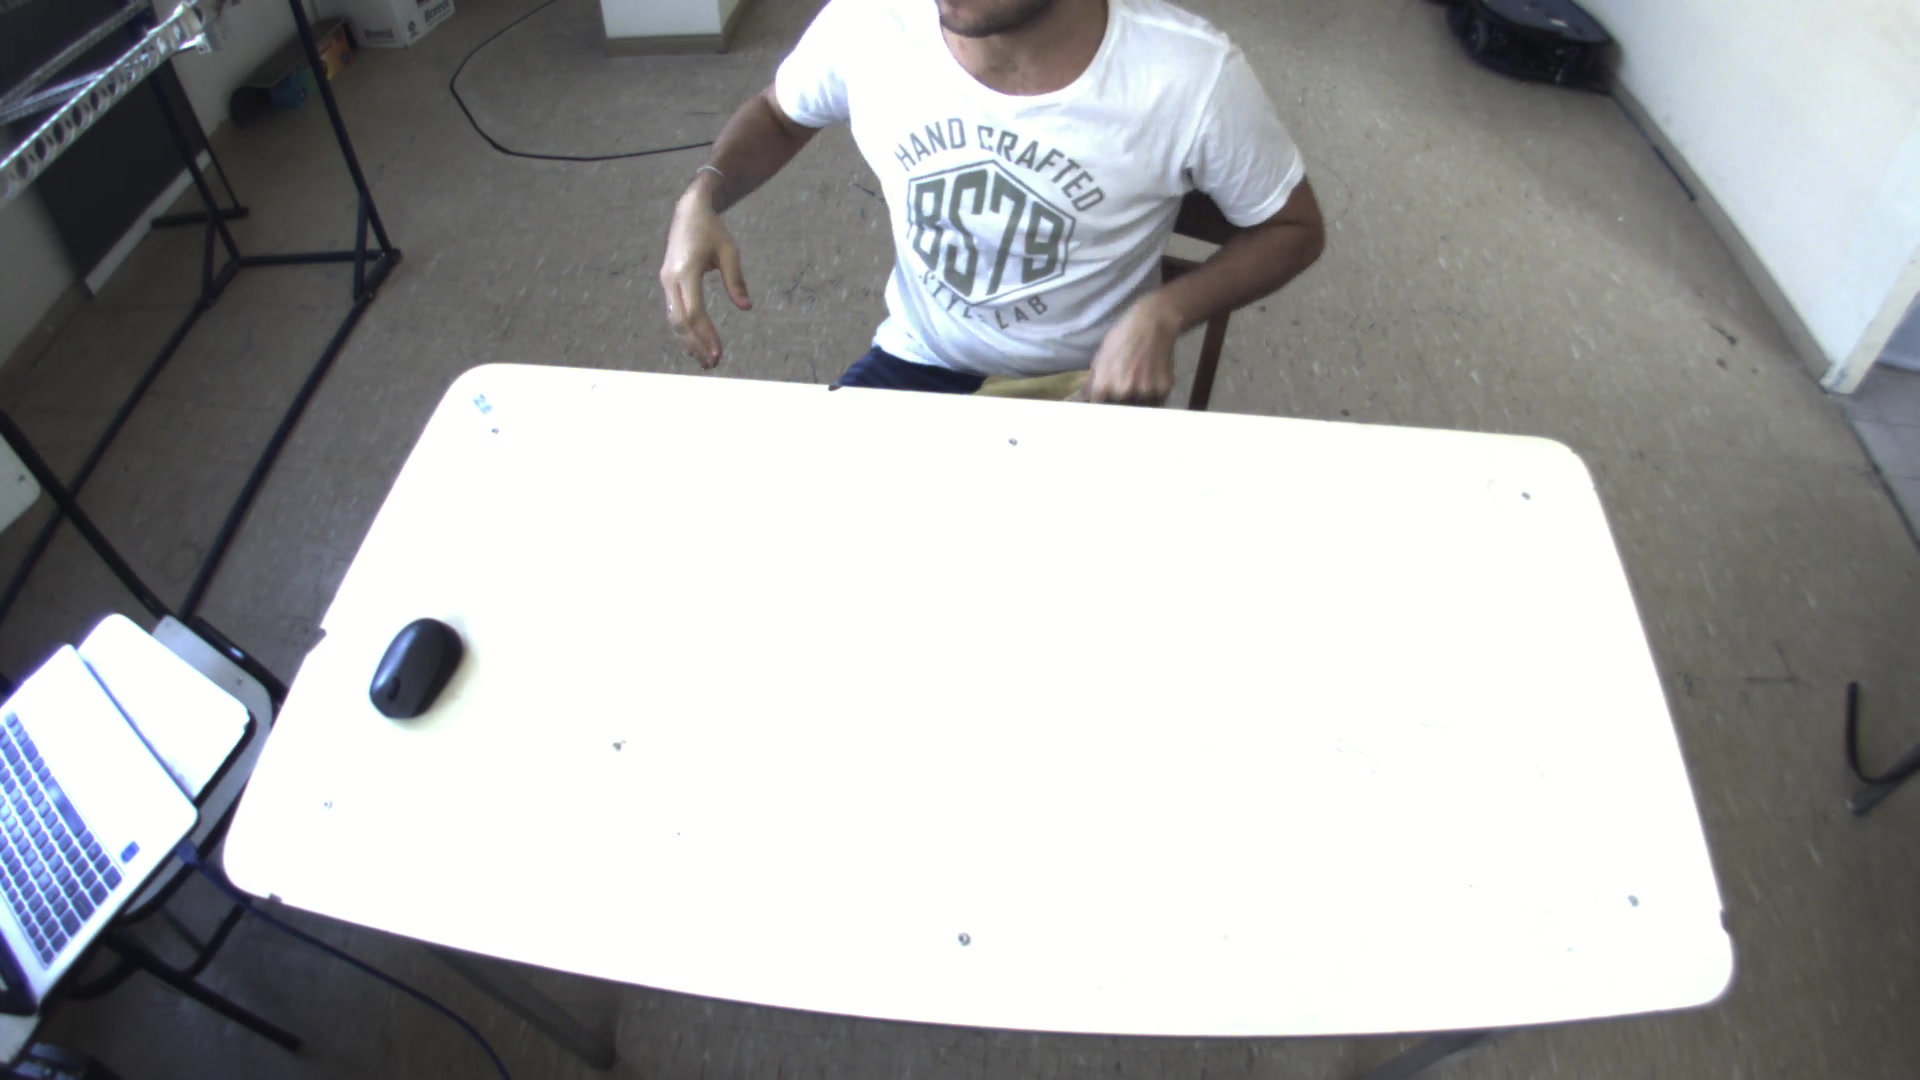hand: (647, 171, 752, 369), (1075, 287, 1191, 406)
